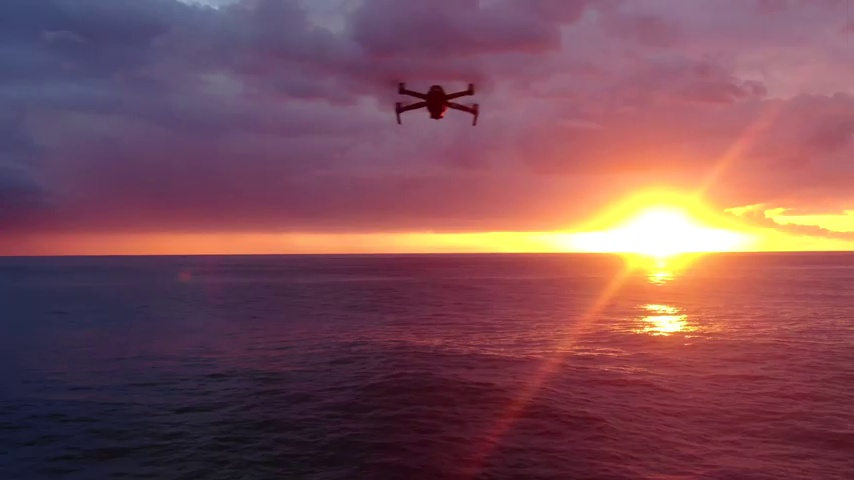drone: (393, 82, 479, 129)
